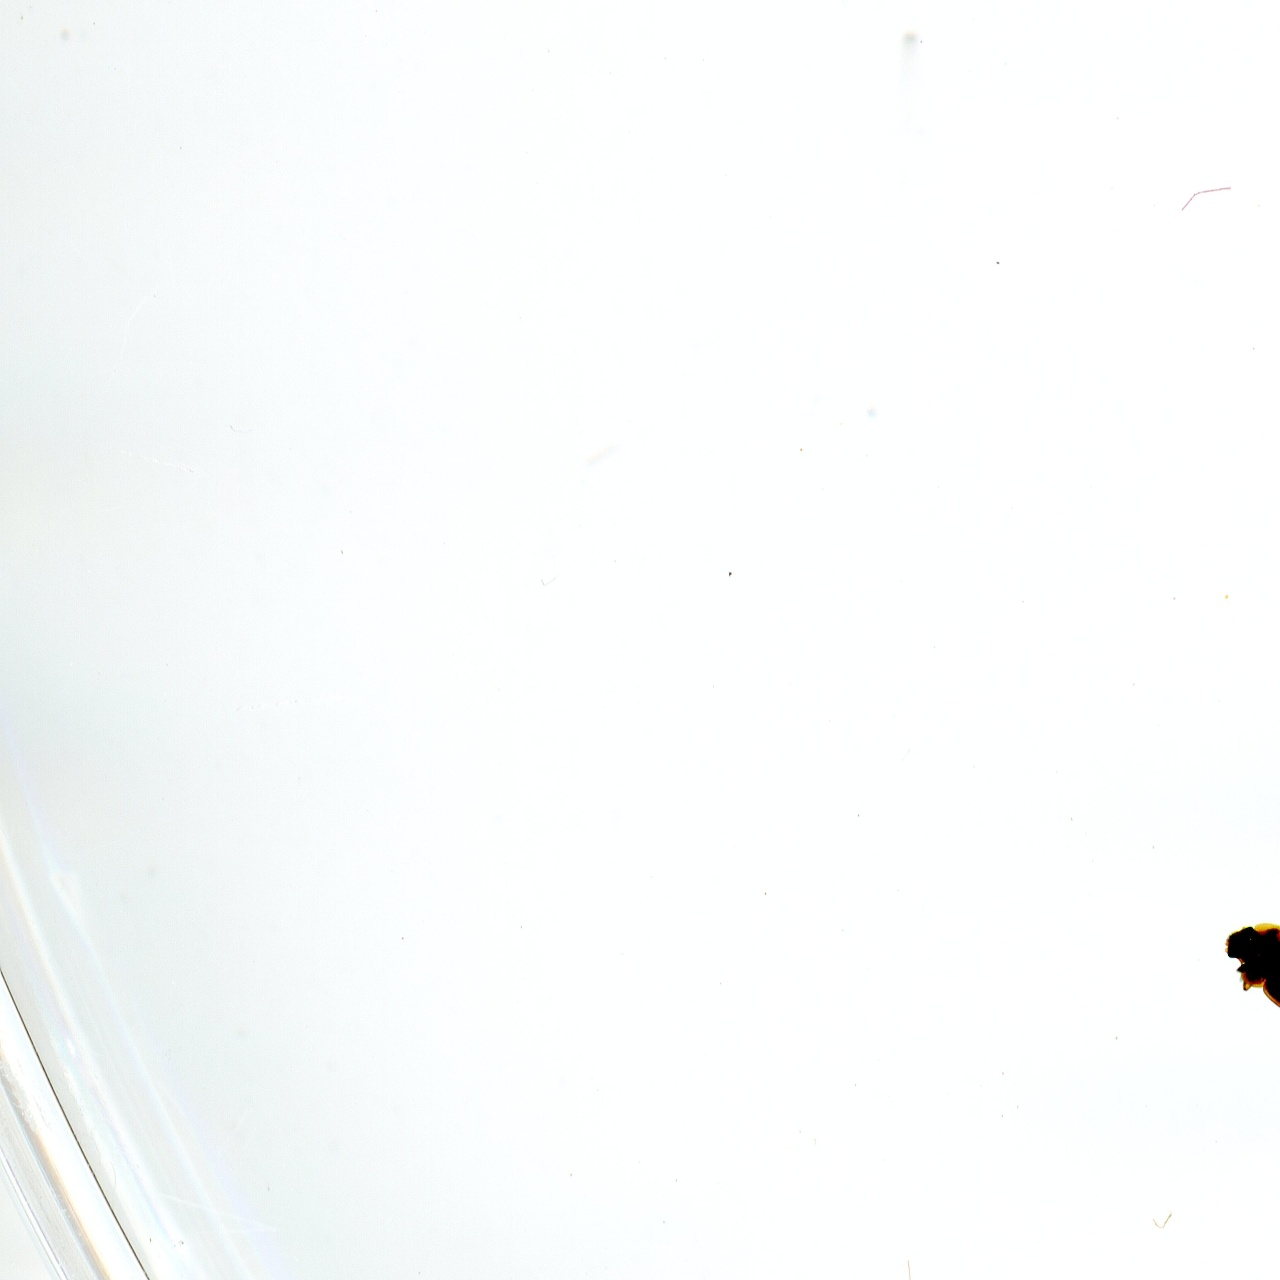arthropod: (1200, 892, 1280, 1049)
